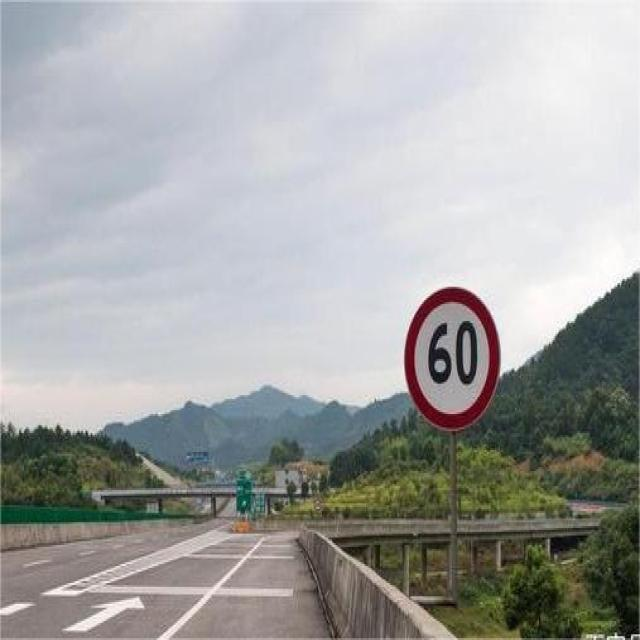speed limit 60: (404, 284, 501, 431)
